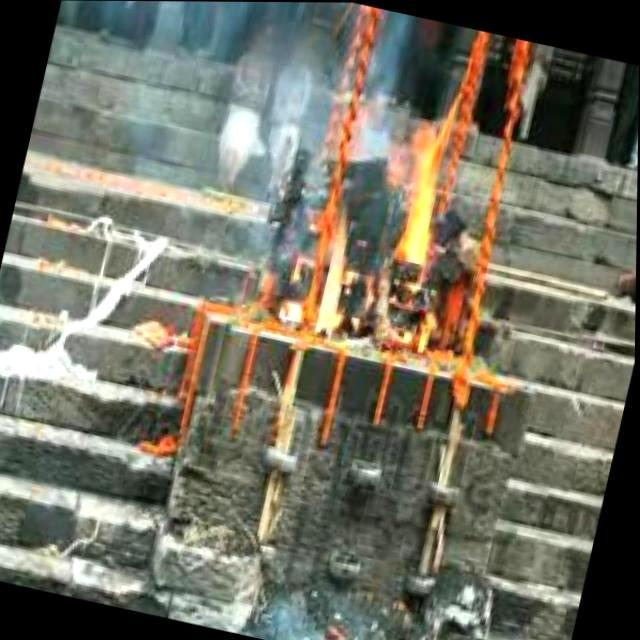fire: (274, 76, 476, 364)
